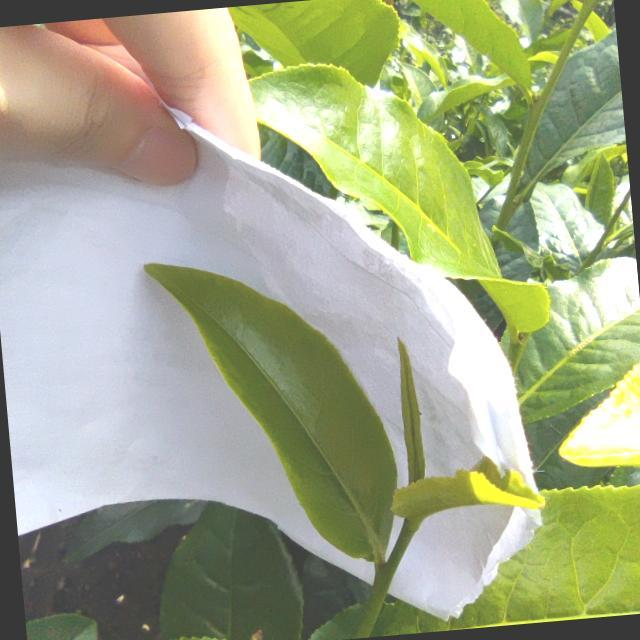Stem: (376, 567, 391, 584)
